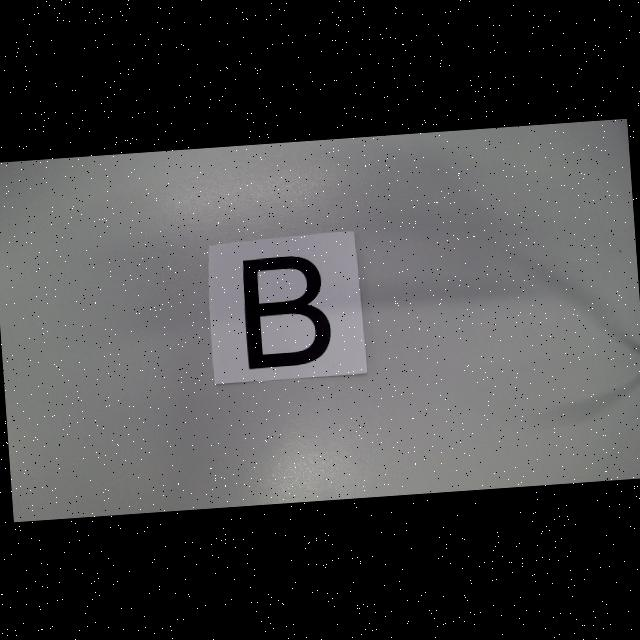FAKE: (241, 253, 334, 369)
